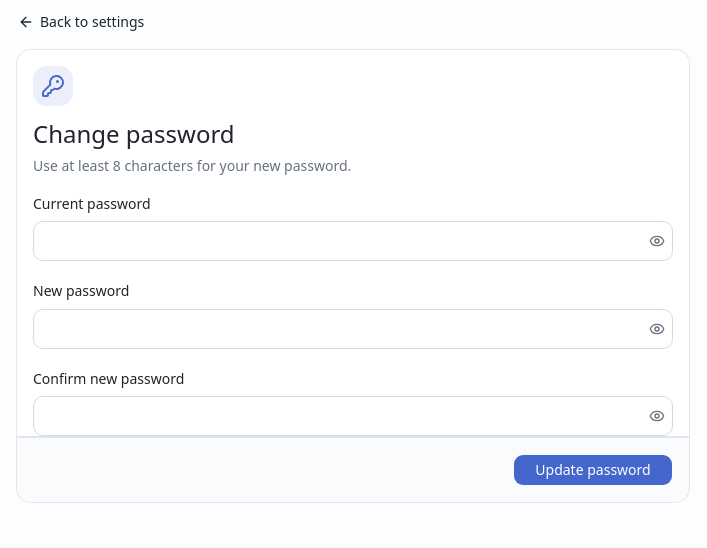
Test: ChangePasswordPage › rejects a mismatched password confirmation without submitting
The width and height of the screenshot is (707, 548).
Type "current-password" into the password field labelled "Current password" at point(339, 241), box [34, 222, 645, 260]
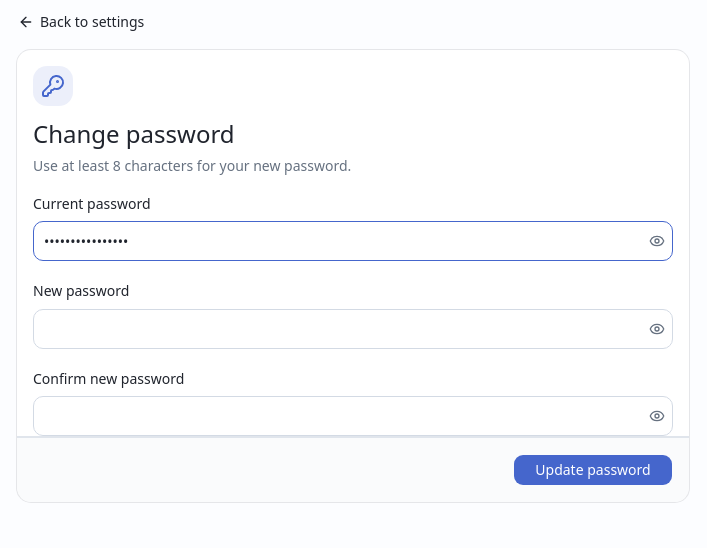
Type "new-password" into the password field labelled "New password" at point(339, 328), box [34, 310, 645, 348]
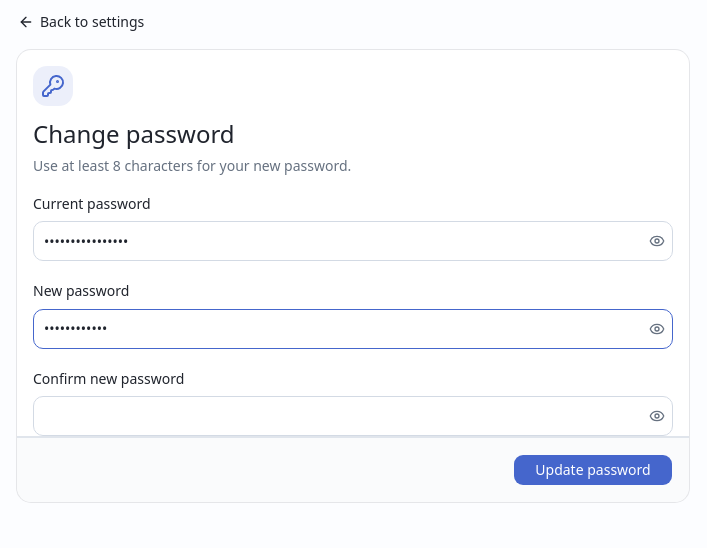
Type "different-password" into the password field labelled "Confirm new password" at point(339, 416), box [34, 397, 645, 435]
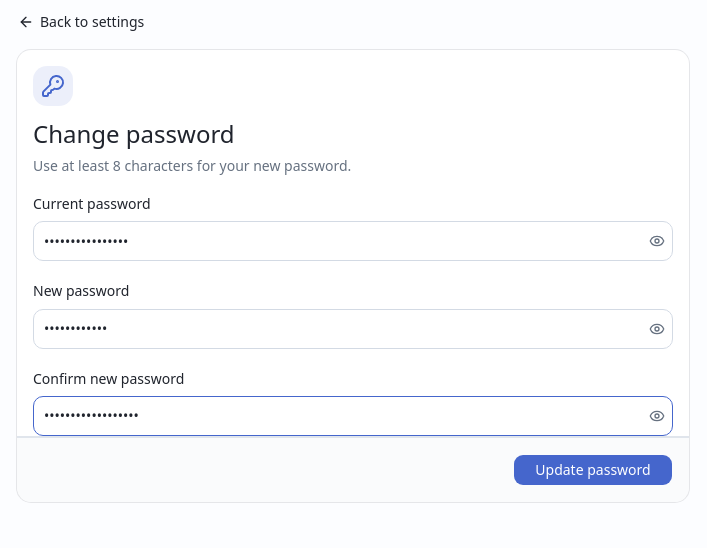
Click the button "Update password" at point(593, 470), box [513, 454, 673, 486]
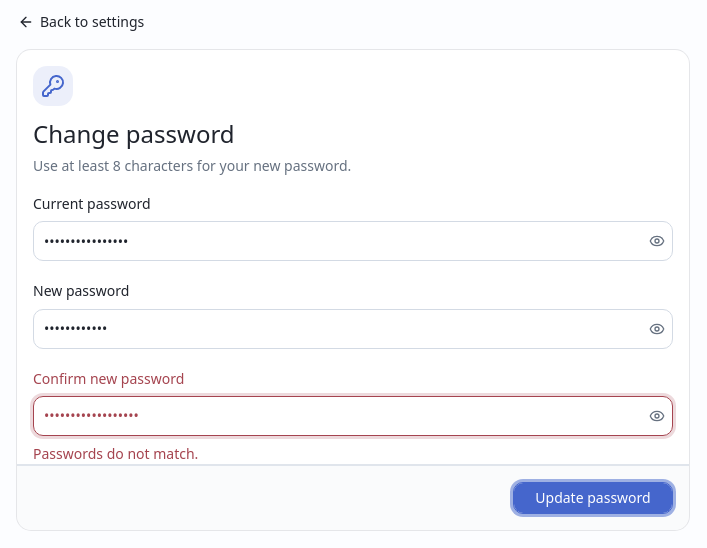
Result: the text "Passwords do not match." is shown at [33, 444, 198, 463]
